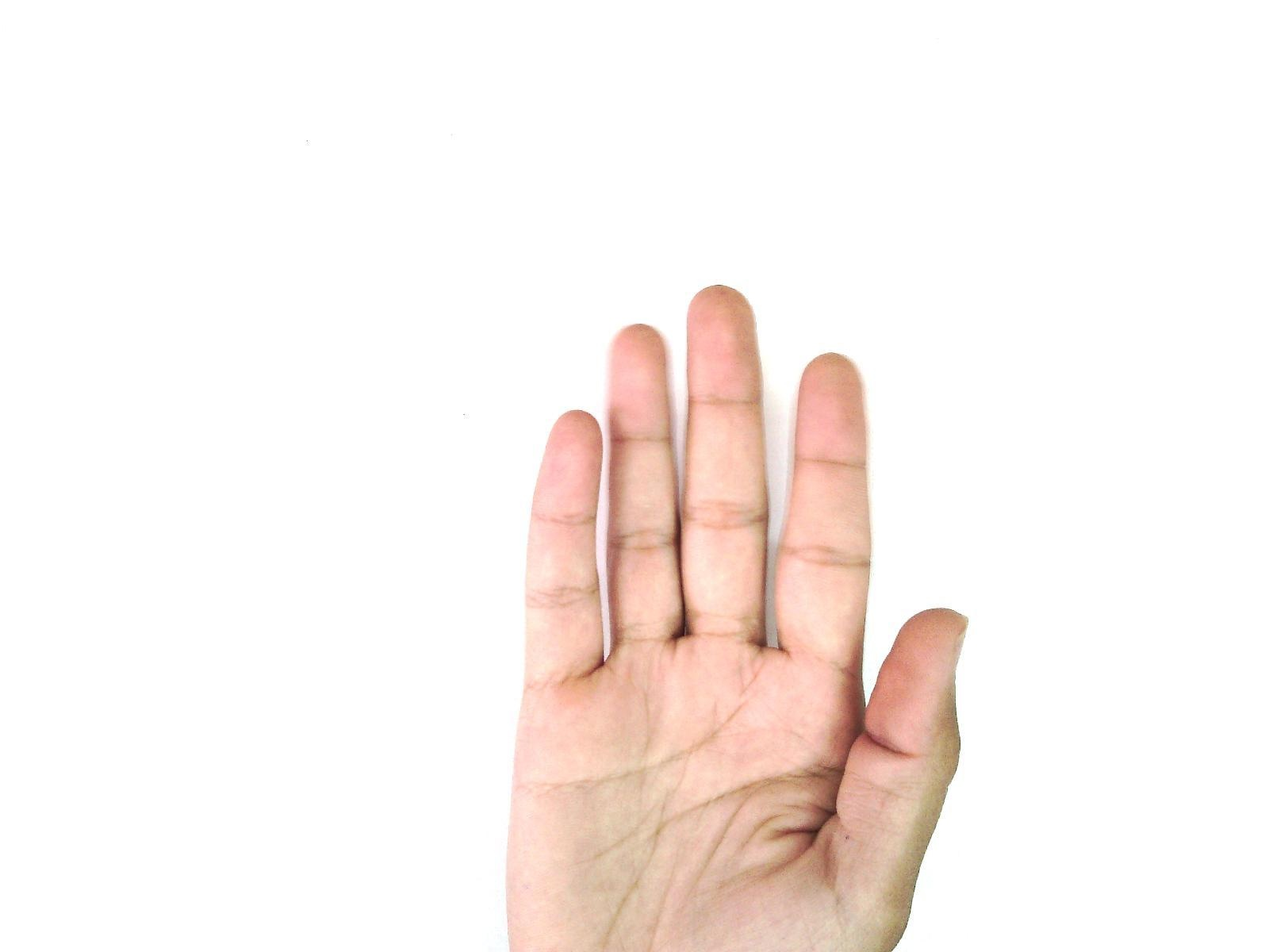open_palm: (501, 284, 971, 951)
